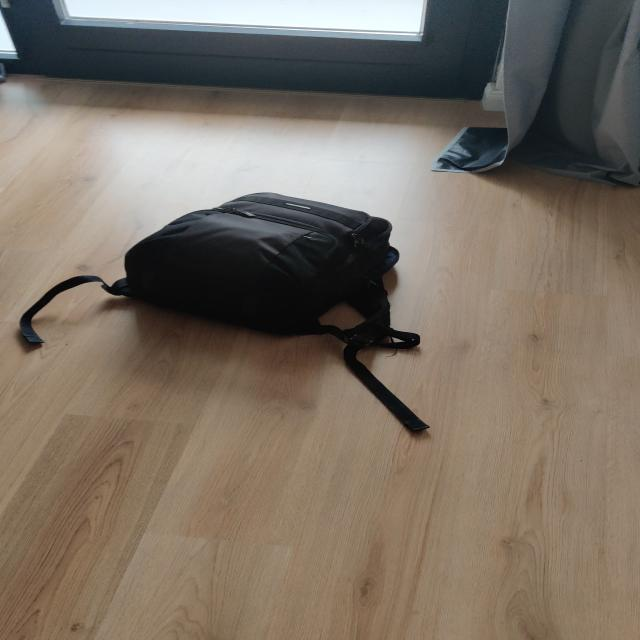backpack: (101, 187, 409, 338)
